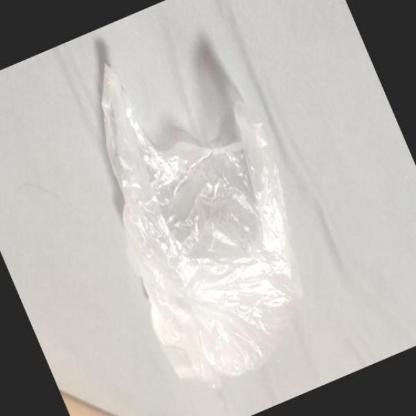Plastic Bag: (99, 60, 305, 384)
